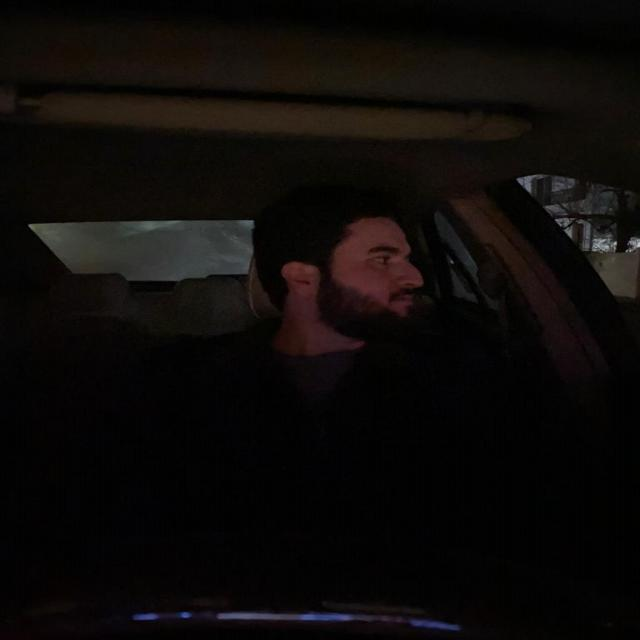LeftRight: (240, 190, 430, 354)
